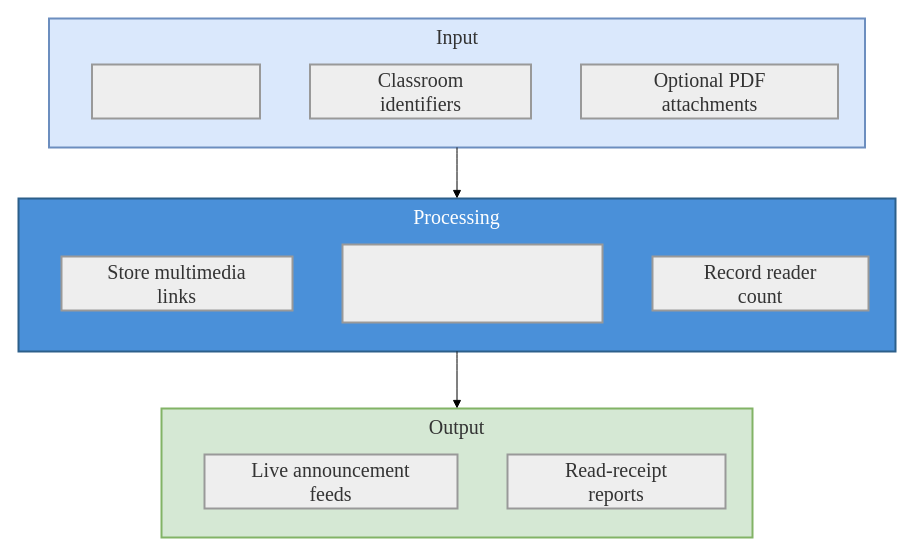
Some shapes in this 913 by 555 pixel diagram are drawn without their labels. The shapes that lost their labels are listed below. From the top down, each one's centre as x and y in pixels, then its label:
At point (175, 91): "Content bodies".
At point (472, 283): "Dispatch student notifications".
